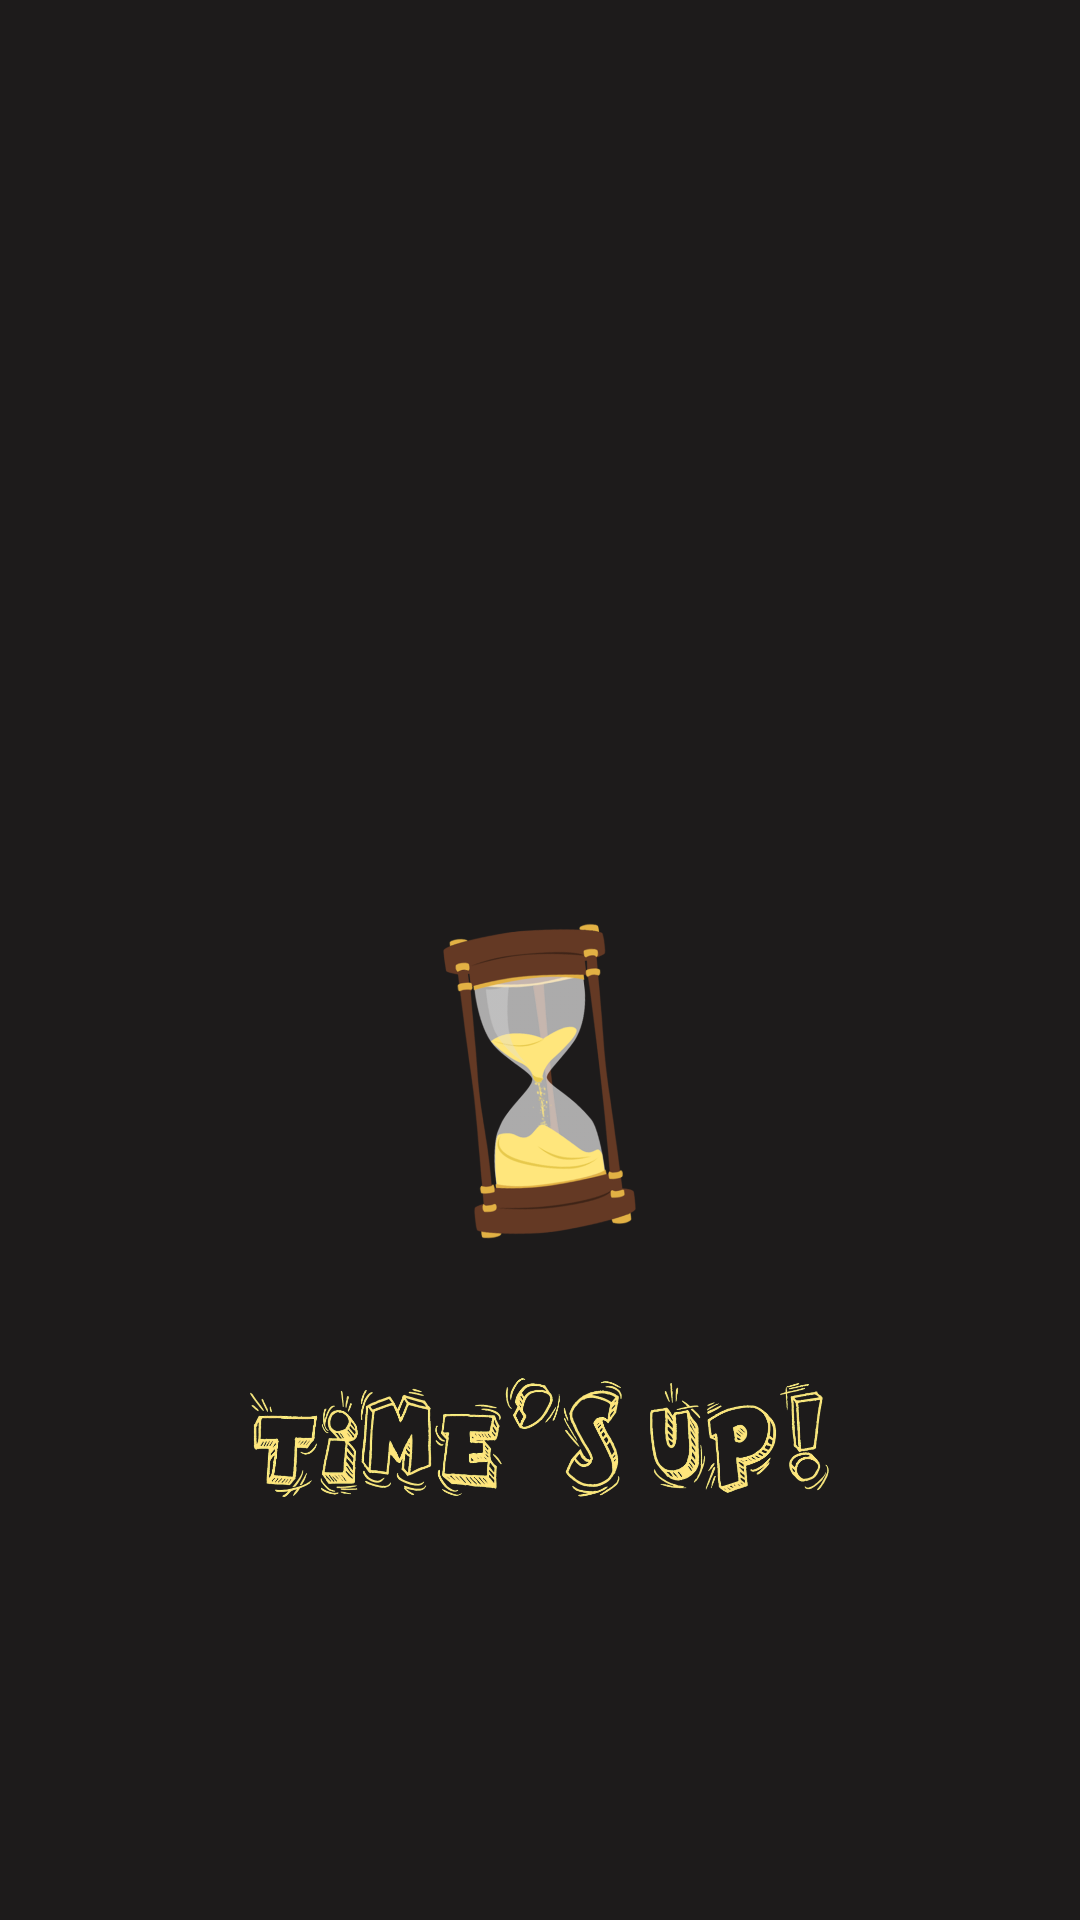

Named icons in this screenshot (1080w x 1920h) and their centers, (x=x, y=y):
times up pic: (x=539, y=1081)
